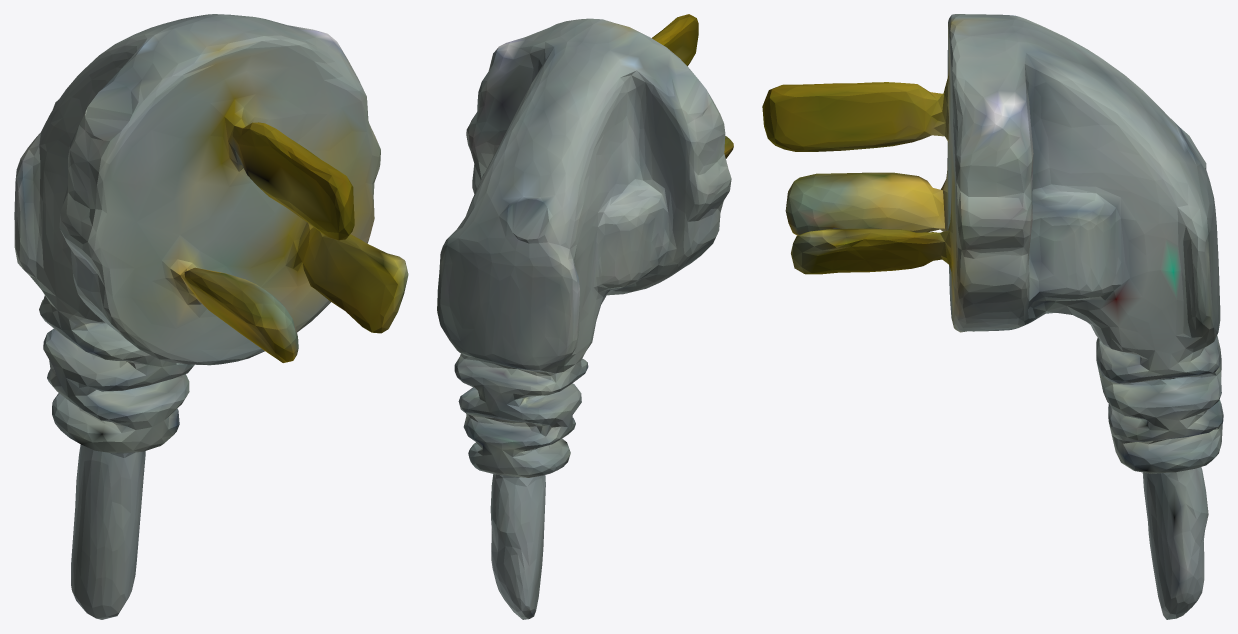
Rendered from scan.obj.
3 renders of one model, left to right at view 1: azimuth 30°, elevation 25°; view 2: azimuth 150°, elevation 25°; view 3: azimuth 270°, elevation 25°, orthographic. The views are drawn at different scales.
Parts seen in each view (by area): view 1: scan.ply; view 2: scan.ply; view 3: scan.ply.
Boxes of the visible parts, <box> form: scan.ply: <box>14,14,408,619</box>; scan.ply: <box>437,14,733,619</box>; scan.ply: <box>762,14,1223,619</box>.
Bounding box in the file's own units: 0.0354 × 0.0747 × 0.0525.
